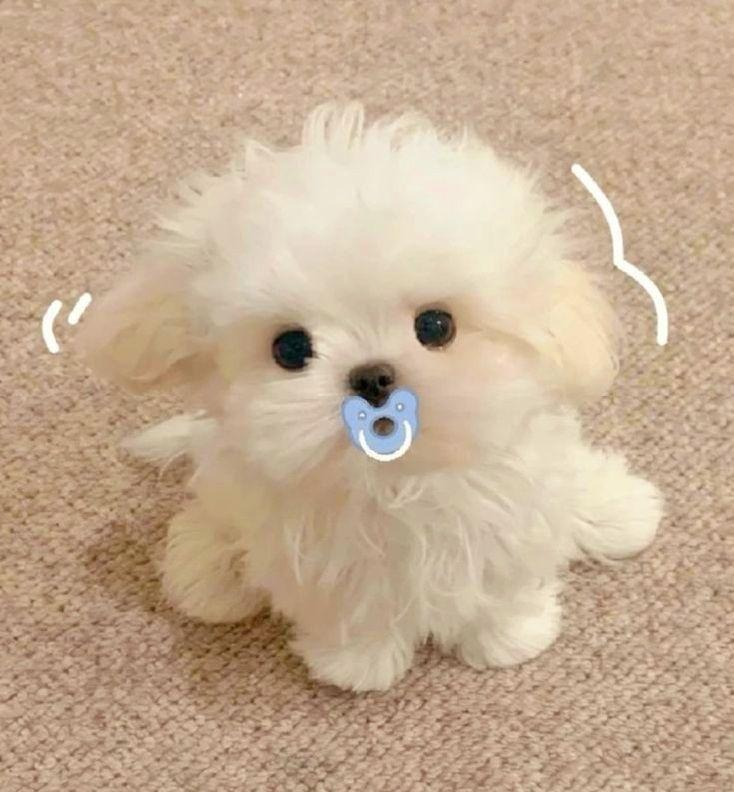puppy-dog: (83, 94, 664, 697)
